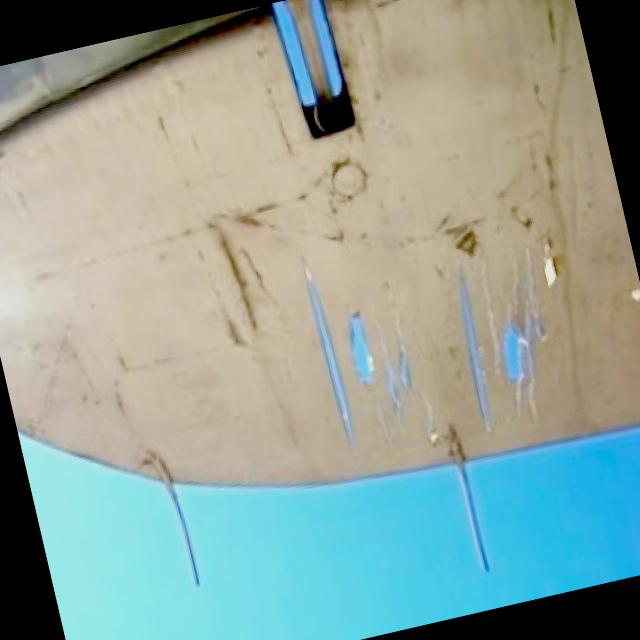crack: (296, 199, 588, 468)
